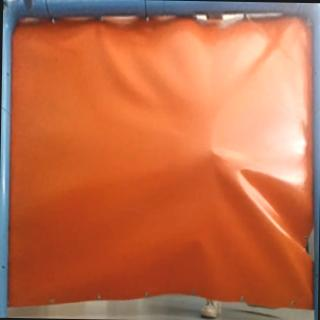Hit-hRxx: (205, 144, 222, 160)
